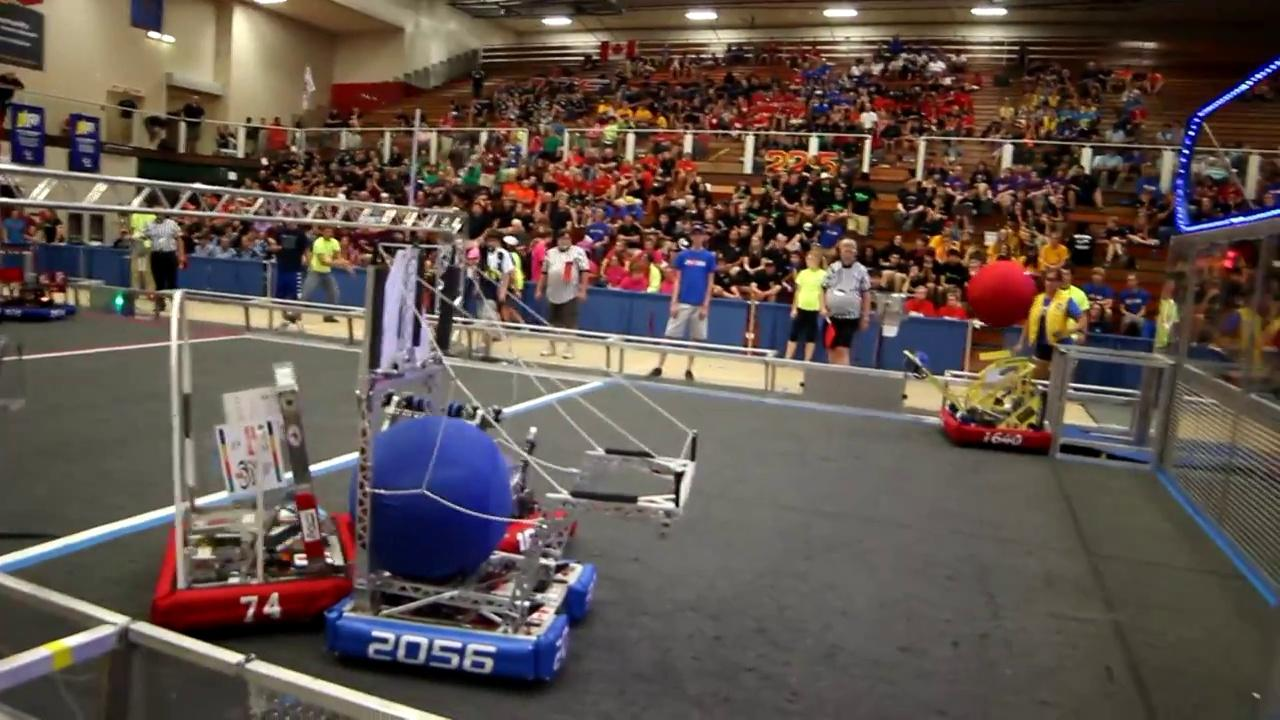robot: (314, 253, 603, 690), (151, 291, 370, 631), (903, 335, 1066, 461)
